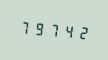four: (60, 20, 73, 41)
nine: (32, 18, 45, 39)
seven: (18, 16, 31, 37), (46, 19, 59, 40)
two: (74, 21, 87, 42)
